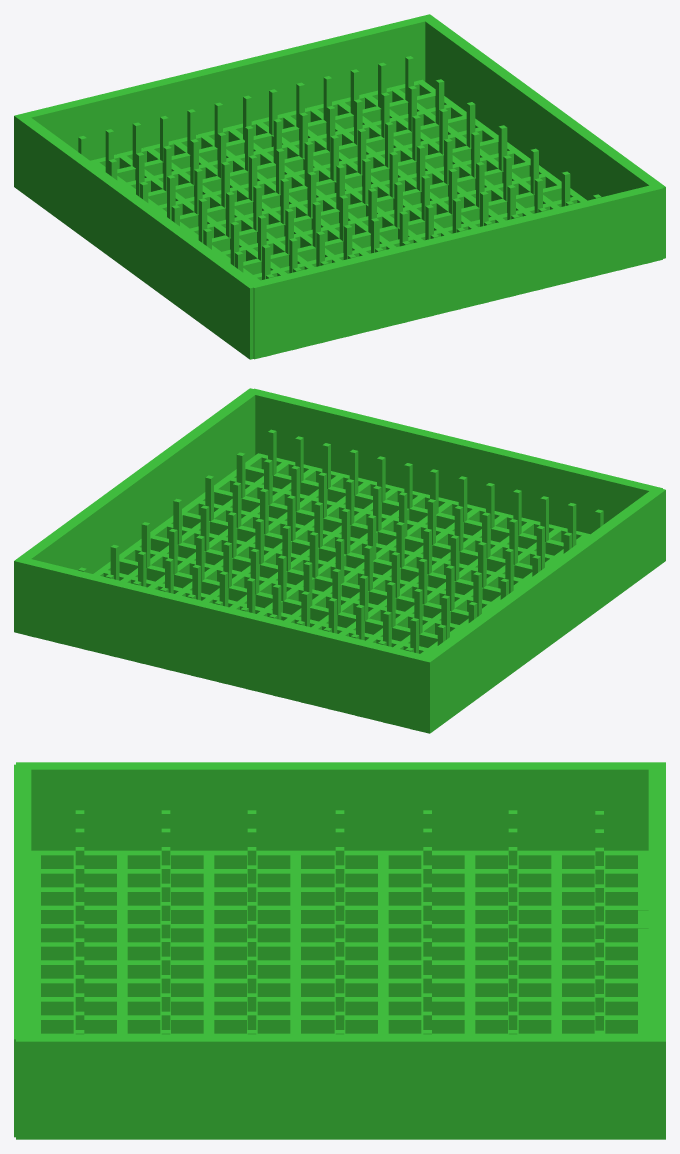
Rendered from dish rack spiked.fbx.
3 renders of one model, top to bottom at view 1: azimuth 30°, elevation 25°; view 2: azimuth 150°, elevation 25°; view 3: azimuth 270°, elevation 25°, orthographic. The views are drawn at different scales.
Visible parts, largest first — view 1: Cube.001; view 2: Cube.001; view 3: Cube.001.
Boxes of the visible parts, x1,y1,x2,y2 form: Cube.001: (14, 14, 665, 359); Cube.001: (14, 388, 665, 733); Cube.001: (14, 762, 665, 1139).
Size of the model in its own units: 611 by 101 by 602.
